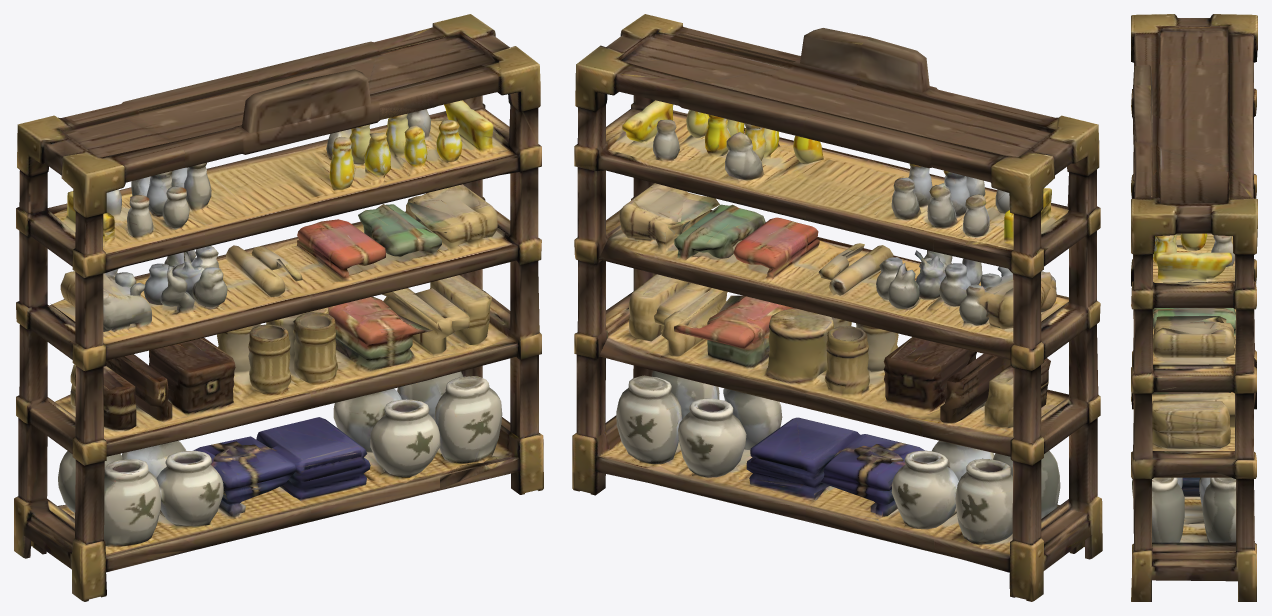
File: Alchemist_s_Shelf_2.glb
The picture shows the model from 3 angles, left to right: view 1: azimuth 30°, elevation 25°; view 2: azimuth 150°, elevation 25°; view 3: azimuth 270°, elevation 25°; orthographic projection. The views are drawn at different scales.
Bounding box in the file's own units: 1.91 × 1.81 × 0.501.
Materials: 1 (1 with a texture image).
